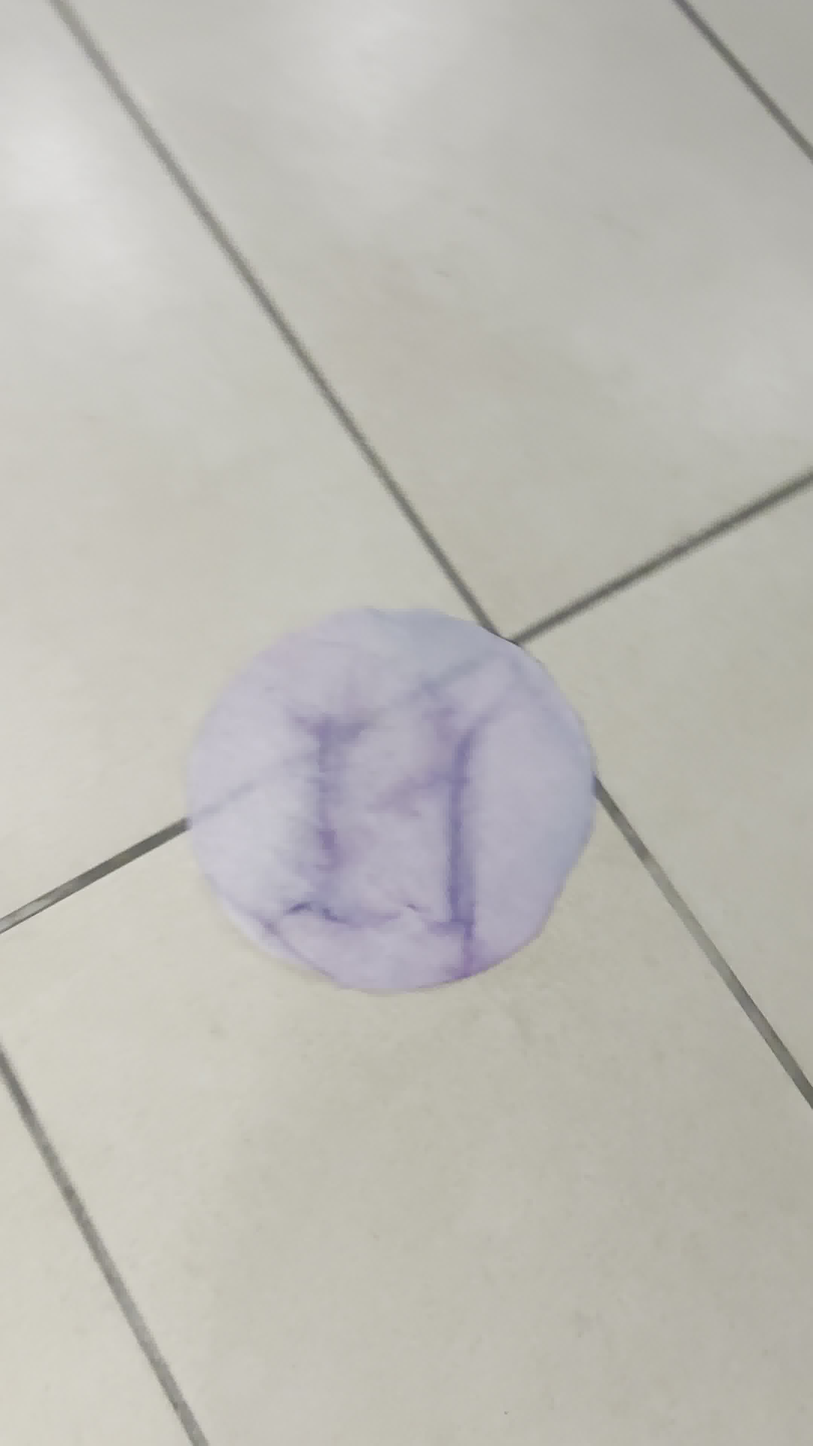Target: (185, 605, 596, 994)
